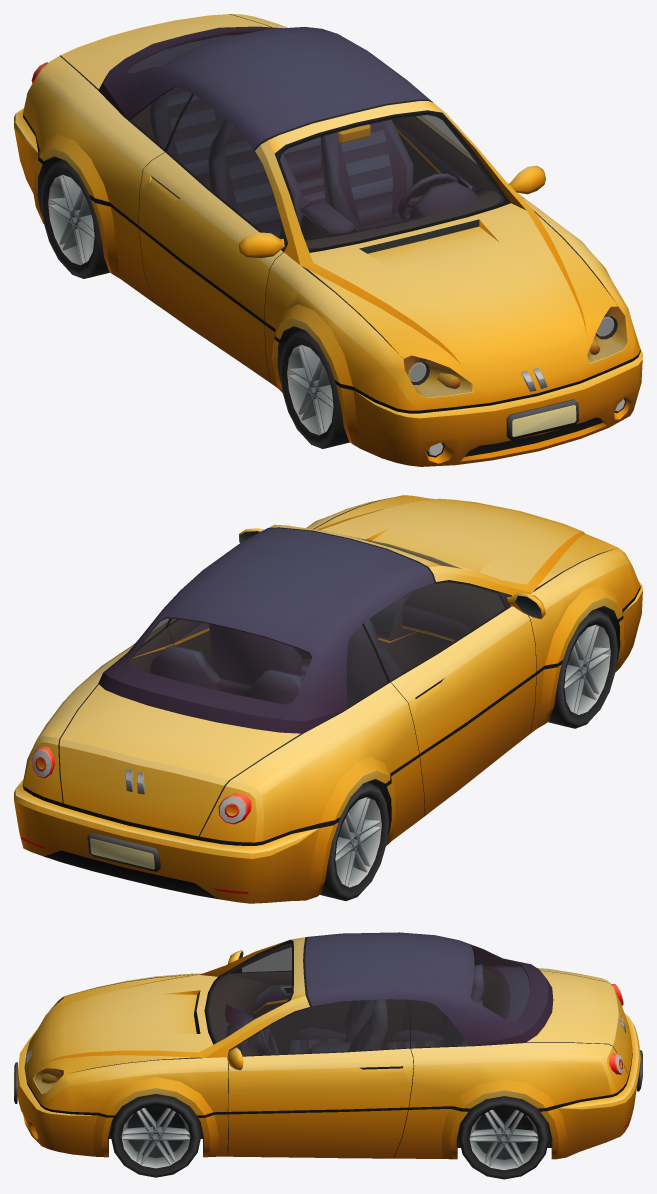
The model's file is TSP_Sportscar_01B.fbx.
The picture shows the model from 3 angles, top to bottom: view 1: azimuth 30°, elevation 25°; view 2: azimuth 150°, elevation 25°; view 3: azimuth 270°, elevation 25°; orthographic projection. The views are drawn at different scales.
Visible parts, largest first — view 1: TSP_Sportscar_01B_Body, TSP_Sportscar_01B_Roof, TSP_Sportscar_01B_Door.R, TSP_Sportscar_01B_Door_Window.R, TSP_Sportscar_01B_Wheel_F.R, TSP_Sportscar_01B_Wheel_R.R, TSP_Sportscar_01B_Door.L, TSP_Sportscar_01B_Windows, TSP_Sportscar_01B_Steering_Wheel, TSP_Sportscar_01B_Door_Window.L; view 2: TSP_Sportscar_01B_Body, TSP_Sportscar_01B_Roof, TSP_Sportscar_01B_Door.R, TSP_Sportscar_01B_Door_Window.R, TSP_Sportscar_01B_Wheel_F.R, TSP_Sportscar_01B_Wheel_R.R, TSP_Sportscar_01B_Windows, TSP_Sportscar_01B_Door.L, TSP_Sportscar_01B_Taillights; view 3: TSP_Sportscar_01B_Body, TSP_Sportscar_01B_Door.L, TSP_Sportscar_01B_Roof, TSP_Sportscar_01B_Door_Window.L, TSP_Sportscar_01B_Wheel_F.L, TSP_Sportscar_01B_Wheel_R.L, TSP_Sportscar_01B_Door.R, TSP_Sportscar_01B_Windows, TSP_Sportscar_01B_Door_Window.R, TSP_Sportscar_01B_Steering_Wheel.
Boxes of the visible parts, bbox=[...] form: TSP_Sportscar_01B_Body: bbox=[14, 14, 642, 466]; TSP_Sportscar_01B_Roof: bbox=[98, 26, 432, 150]; TSP_Sportscar_01B_Door.R: bbox=[138, 152, 287, 382]; TSP_Sportscar_01B_Door_Window.R: bbox=[165, 94, 283, 237]; TSP_Sportscar_01B_Wheel_F.R: bbox=[280, 329, 349, 448]; TSP_Sportscar_01B_Wheel_R.R: bbox=[41, 160, 109, 278]; TSP_Sportscar_01B_Door.L: bbox=[392, 116, 545, 198]; TSP_Sportscar_01B_Windows: bbox=[129, 87, 193, 151]; TSP_Sportscar_01B_Steering_Wheel: bbox=[397, 173, 457, 219]; TSP_Sportscar_01B_Door_Window.L: bbox=[415, 115, 478, 166]; TSP_Sportscar_01B_Body: bbox=[14, 495, 642, 903]; TSP_Sportscar_01B_Roof: bbox=[98, 527, 435, 733]; TSP_Sportscar_01B_Door.R: bbox=[390, 591, 545, 815]; TSP_Sportscar_01B_Door_Window.R: bbox=[364, 581, 506, 681]; TSP_Sportscar_01B_Wheel_F.R: bbox=[548, 609, 617, 728]; TSP_Sportscar_01B_Wheel_R.R: bbox=[320, 782, 388, 900]; TSP_Sportscar_01B_Windows: bbox=[140, 618, 390, 708]; TSP_Sportscar_01B_Door.L: bbox=[153, 528, 263, 668]; TSP_Sportscar_01B_Taillights: bbox=[32, 750, 245, 823]; TSP_Sportscar_01B_Body: bbox=[14, 937, 642, 1159]; TSP_Sportscar_01B_Door.L: bbox=[227, 1042, 413, 1158]; TSP_Sportscar_01B_Roof: bbox=[303, 932, 553, 1045]; TSP_Sportscar_01B_Door_Window.L: bbox=[242, 999, 409, 1055]; TSP_Sportscar_01B_Wheel_F.L: bbox=[111, 1094, 201, 1177]; TSP_Sportscar_01B_Wheel_R.L: bbox=[459, 1096, 549, 1179]; TSP_Sportscar_01B_Door.R: bbox=[228, 950, 407, 1053]; TSP_Sportscar_01B_Windows: bbox=[409, 1000, 469, 1048]; TSP_Sportscar_01B_Door_Window.R: bbox=[242, 947, 291, 972]; TSP_Sportscar_01B_Steering_Wheel: bbox=[250, 1027, 278, 1054].
Size of the model in its own units: 2.46 by 1.8 by 5.9.
